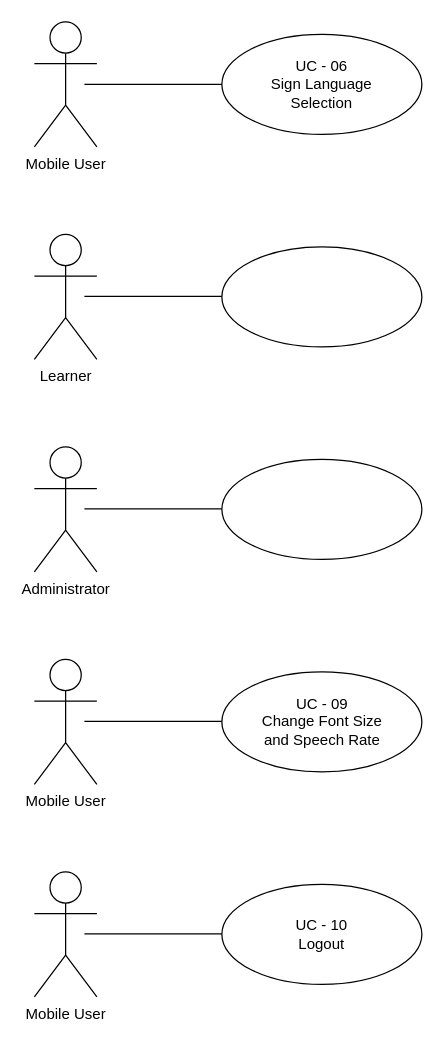
This 444x1045 diagram has some shape labels left out. The shapes that lost their labels are listed below. From the top down, each one's box as (x1, y1, x2, y2) in pixels, then its label:
(221, 246, 422, 347): UC - 07 View Study Material
(221, 458, 422, 559): UC - 08 Upload Study Material
